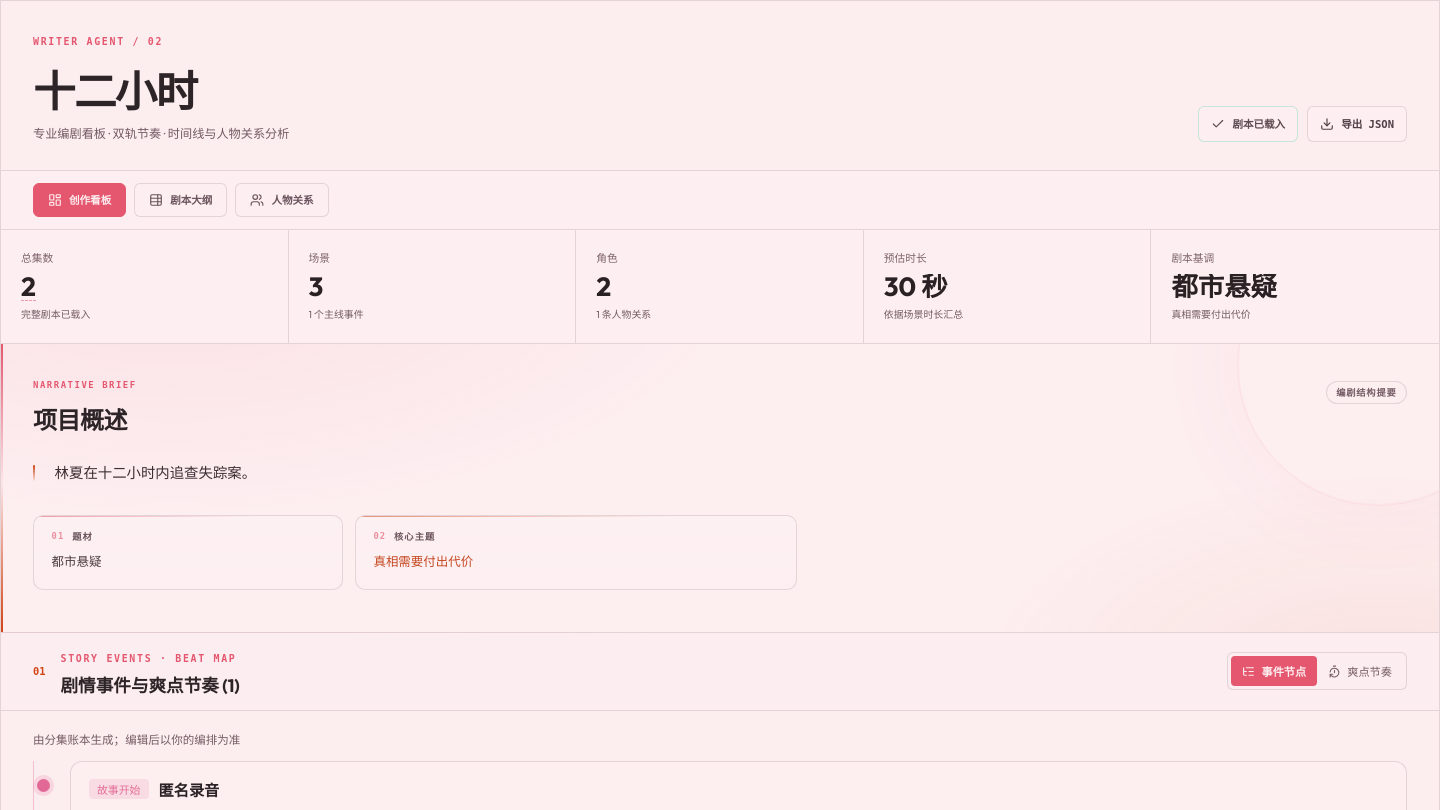
Test: WriterAgentPage script outline view › opens per-episode plain text from the total episode stat
Step 1. Click the button named "总集数 2" → {"x": 28, "y": 288}, box [21, 274, 36, 301]
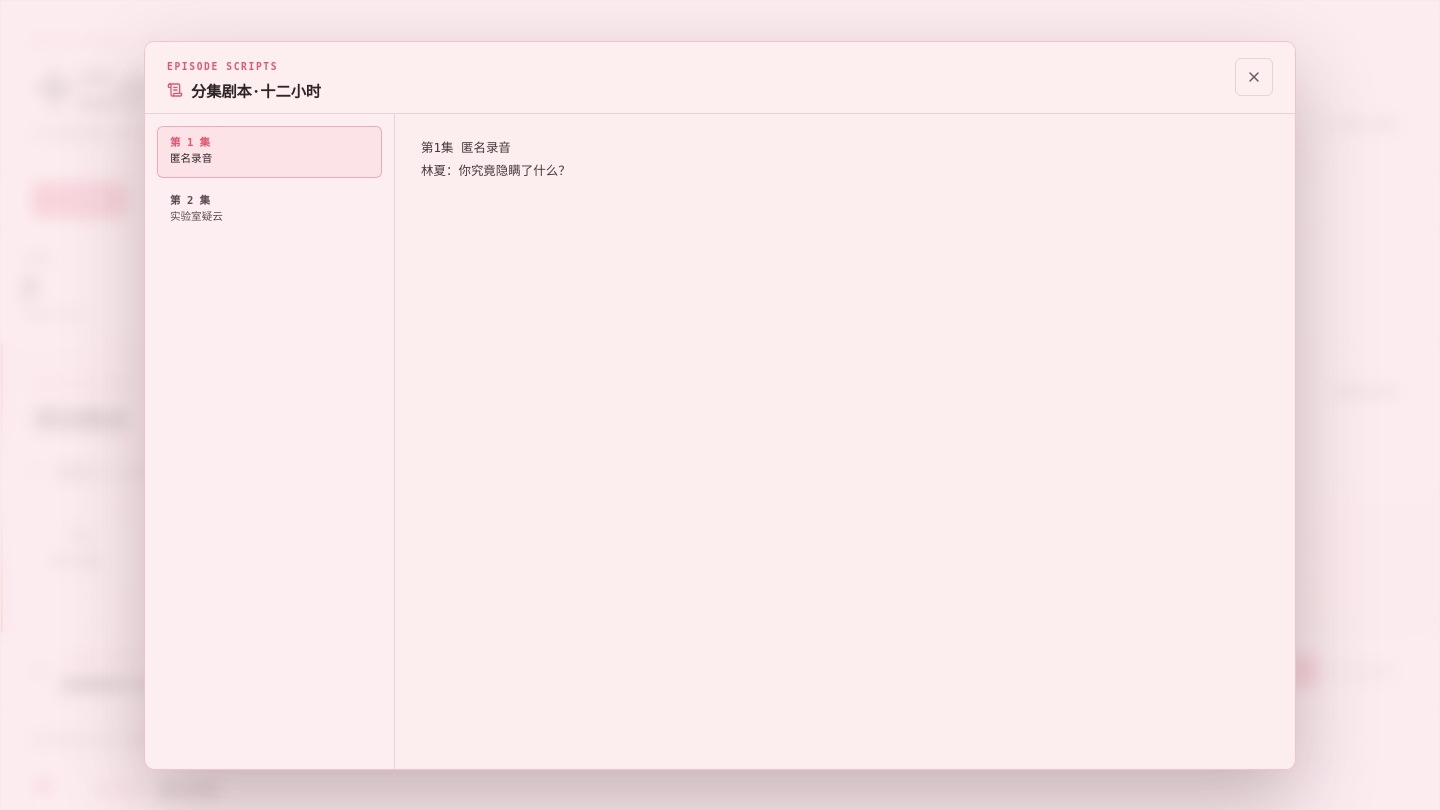
Expected: the field labelled "第 1 集剧本文本" does not show "实验室"
Expected: the button "第 1 集 匿名录音" is shown, [157, 126, 382, 178]
Expected: the text named "第 1 集剧本文本" shows "林夏：你究竟隐瞒了什么？", [421, 140, 571, 178]
Step 2. Click the button "第 2 集 实验室疑云" → {"x": 270, "y": 210}, box [157, 184, 382, 236]
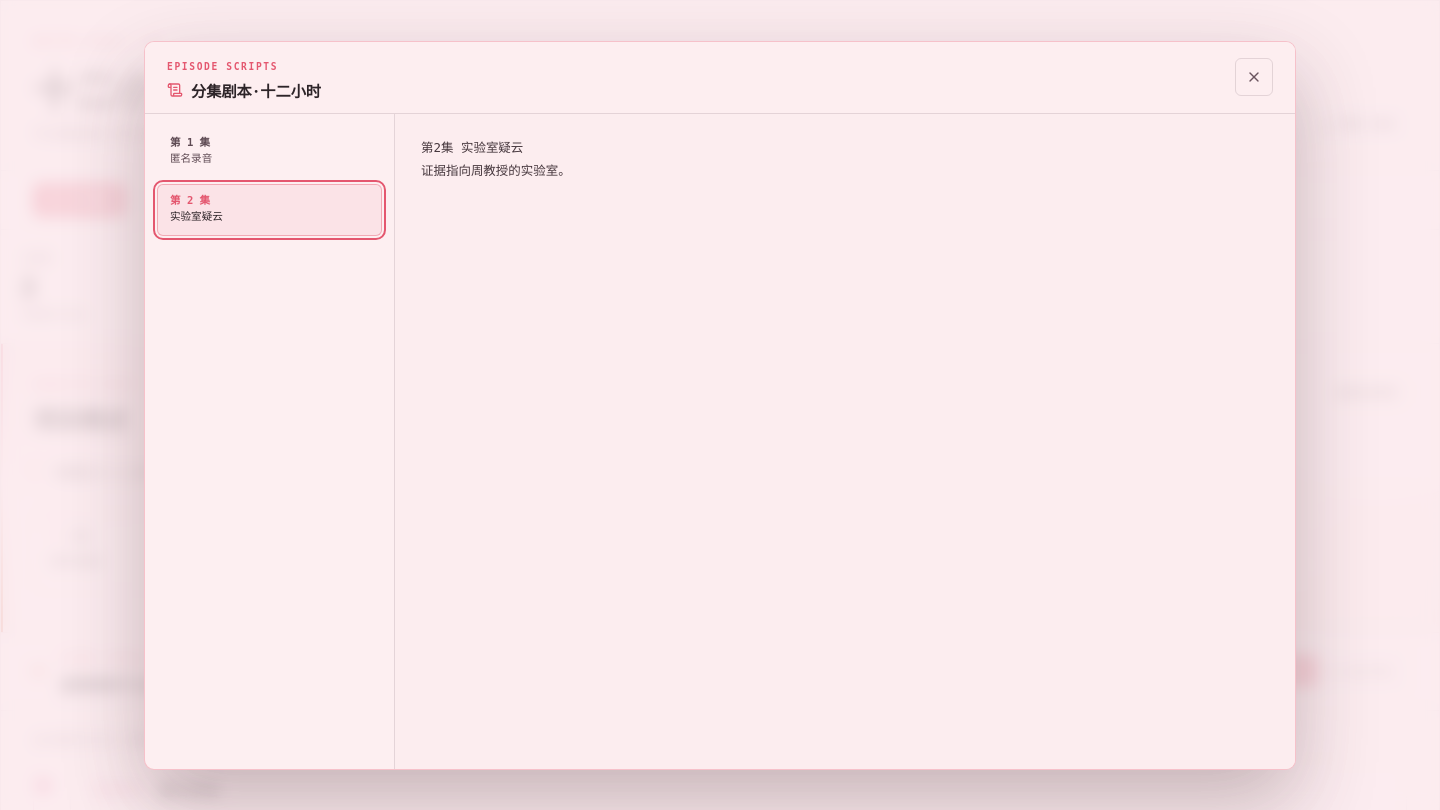
Expected: the text named "第 2 集剧本文本" shows "证据指向周教授的实验室。", [421, 140, 571, 178]
Step 3. Click the button named "关闭分集剧本" → {"x": 1254, "y": 77}, box [1235, 58, 1273, 96]
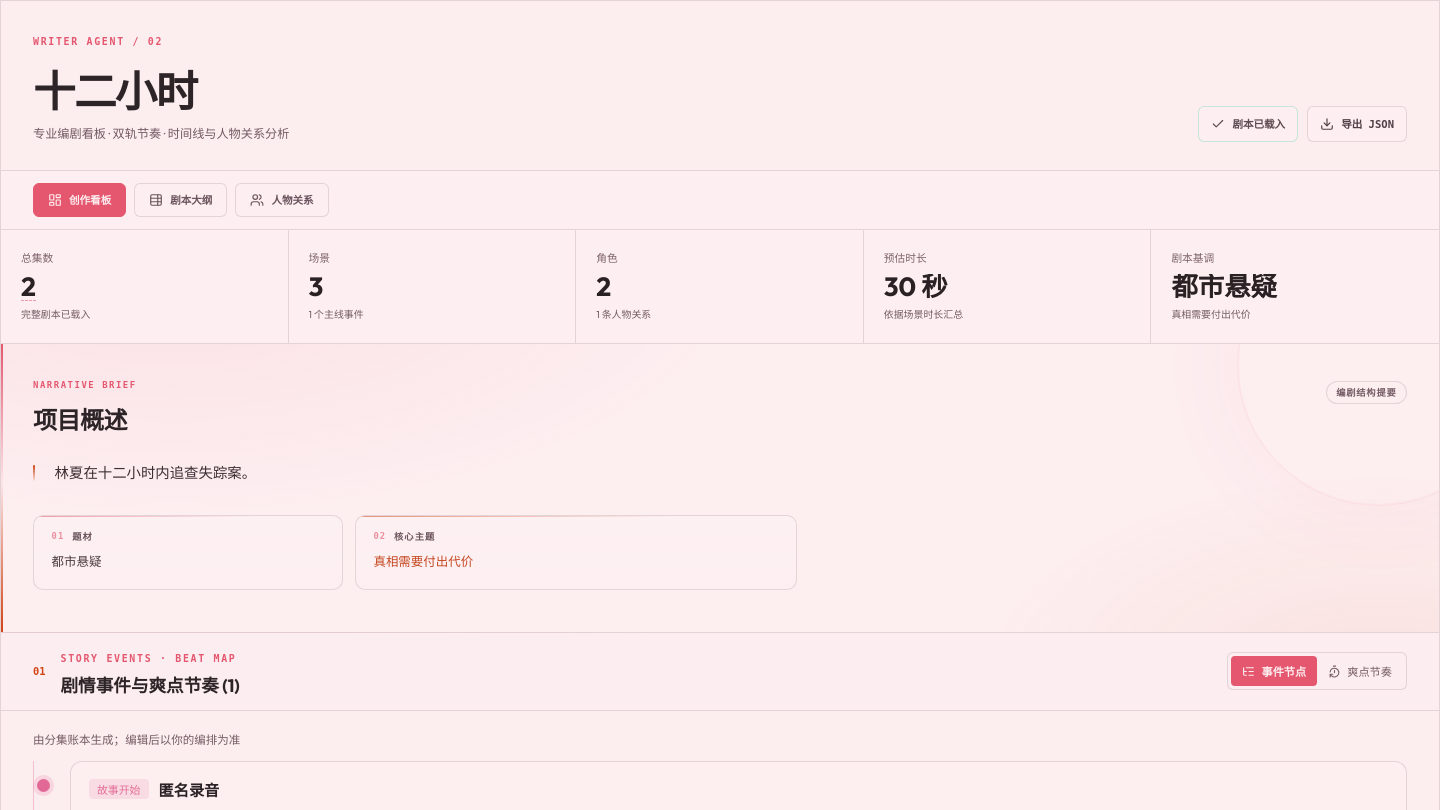
Expected: the dialog is gone
